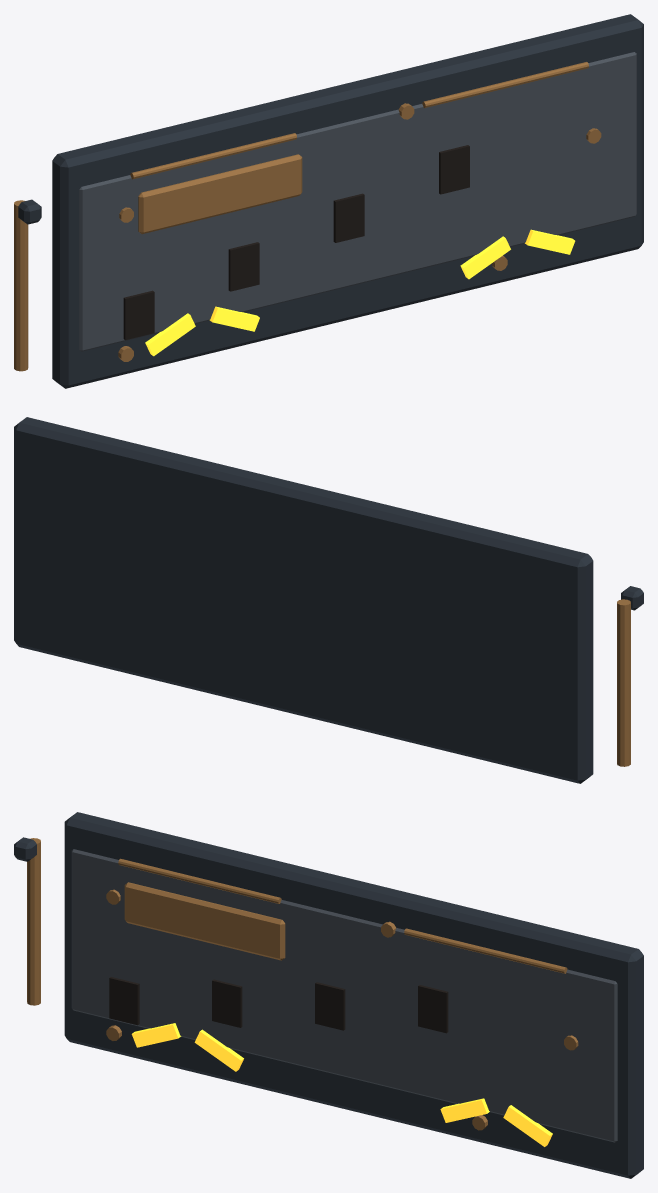
The model's file is runtime.glb.
3 views of the same model, one above another, from view 1: azimuth 30°, elevation 25°; view 2: azimuth 150°, elevation 25°; view 3: azimuth 330°, elevation 25° (orthographic). The views are drawn at different scales.
Visible parts, largest first — view 1: kinetic-tide-maintenance-panel-v08_plate_nocol, kinetic-tide-maintenance-panel-v08_steel_nocol, kinetic-tide-maintenance-panel-v08_bronze_nocol, kinetic-tide-maintenance-panel-v08_weardark_nocol, kinetic-tide-maintenance-panel-v08_warningorange_nocol; view 2: kinetic-tide-maintenance-panel-v08_steel_nocol, kinetic-tide-maintenance-panel-v08_bronze_nocol; view 3: kinetic-tide-maintenance-panel-v08_plate_nocol, kinetic-tide-maintenance-panel-v08_steel_nocol, kinetic-tide-maintenance-panel-v08_bronze_nocol, kinetic-tide-maintenance-panel-v08_weardark_nocol, kinetic-tide-maintenance-panel-v08_warningorange_nocol.
Part boxes in pixels (x1,y1,x2,y2): kinetic-tide-maintenance-panel-v08_plate_nocol: [79, 52, 636, 351]; kinetic-tide-maintenance-panel-v08_steel_nocol: [18, 14, 643, 388]; kinetic-tide-maintenance-panel-v08_bronze_nocol: [14, 62, 601, 371]; kinetic-tide-maintenance-panel-v08_weardark_nocol: [123, 145, 469, 340]; kinetic-tide-maintenance-panel-v08_warningorange_nocol: [145, 229, 575, 356]; kinetic-tide-maintenance-panel-v08_steel_nocol: [14, 417, 643, 783]; kinetic-tide-maintenance-panel-v08_bronze_nocol: [617, 599, 630, 766]; kinetic-tide-maintenance-panel-v08_plate_nocol: [71, 849, 617, 1142]; kinetic-tide-maintenance-panel-v08_steel_nocol: [14, 812, 643, 1178]; kinetic-tide-maintenance-panel-v08_bronze_nocol: [27, 838, 578, 1130]; kinetic-tide-maintenance-panel-v08_weardark_nocol: [109, 977, 448, 1033]; kinetic-tide-maintenance-panel-v08_warningorange_nocol: [131, 1023, 552, 1146].
Bounding box in the file's own units: 5.16 × 1.8 × 0.305.
